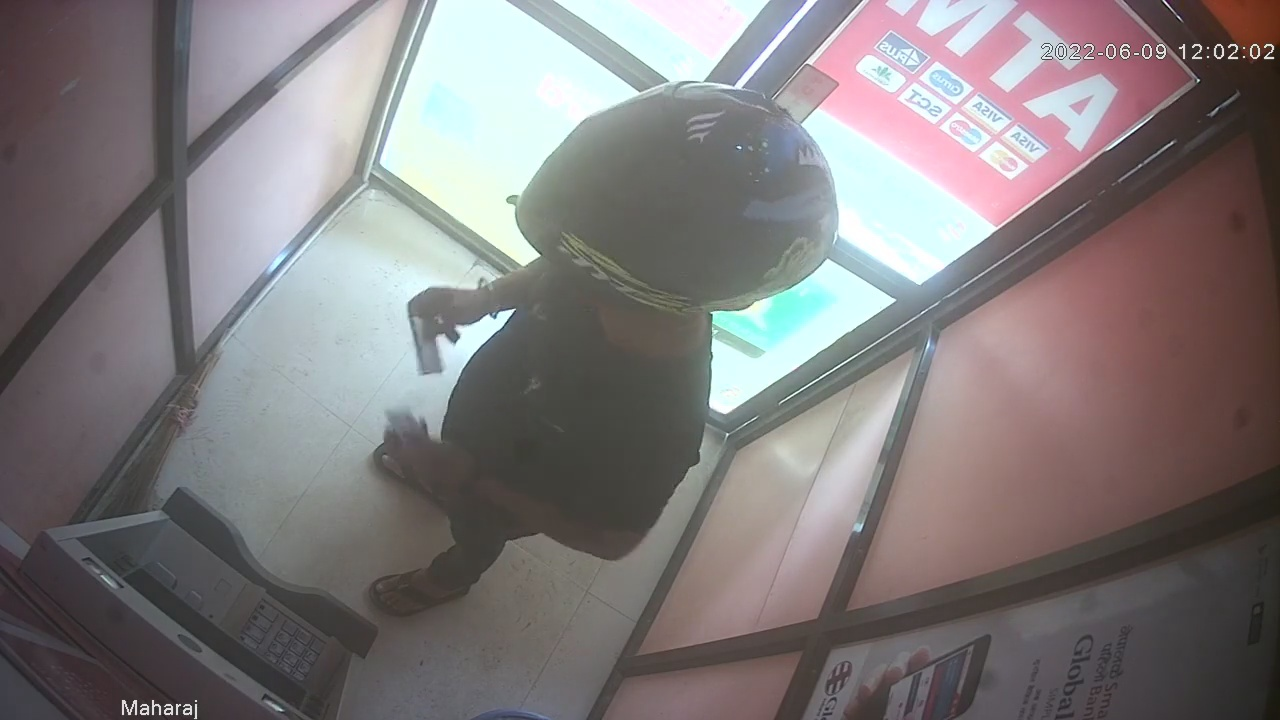helmet: (515, 79, 838, 313)
person: (366, 79, 838, 624)
